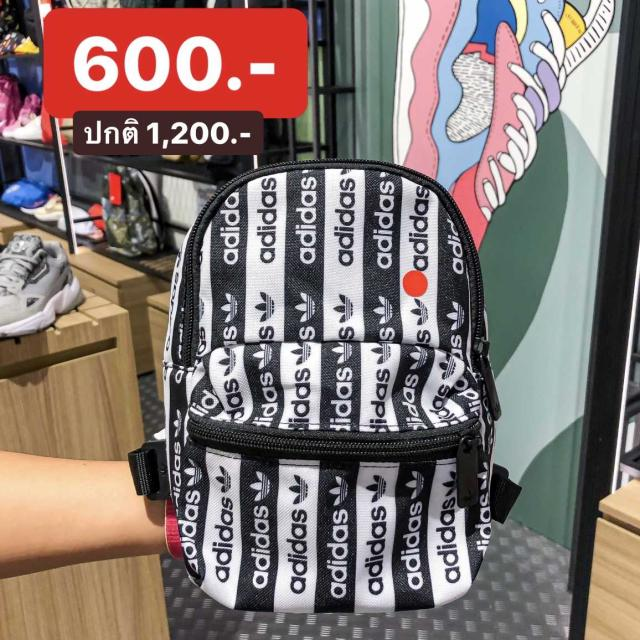Handbag: (169, 160, 497, 614)
